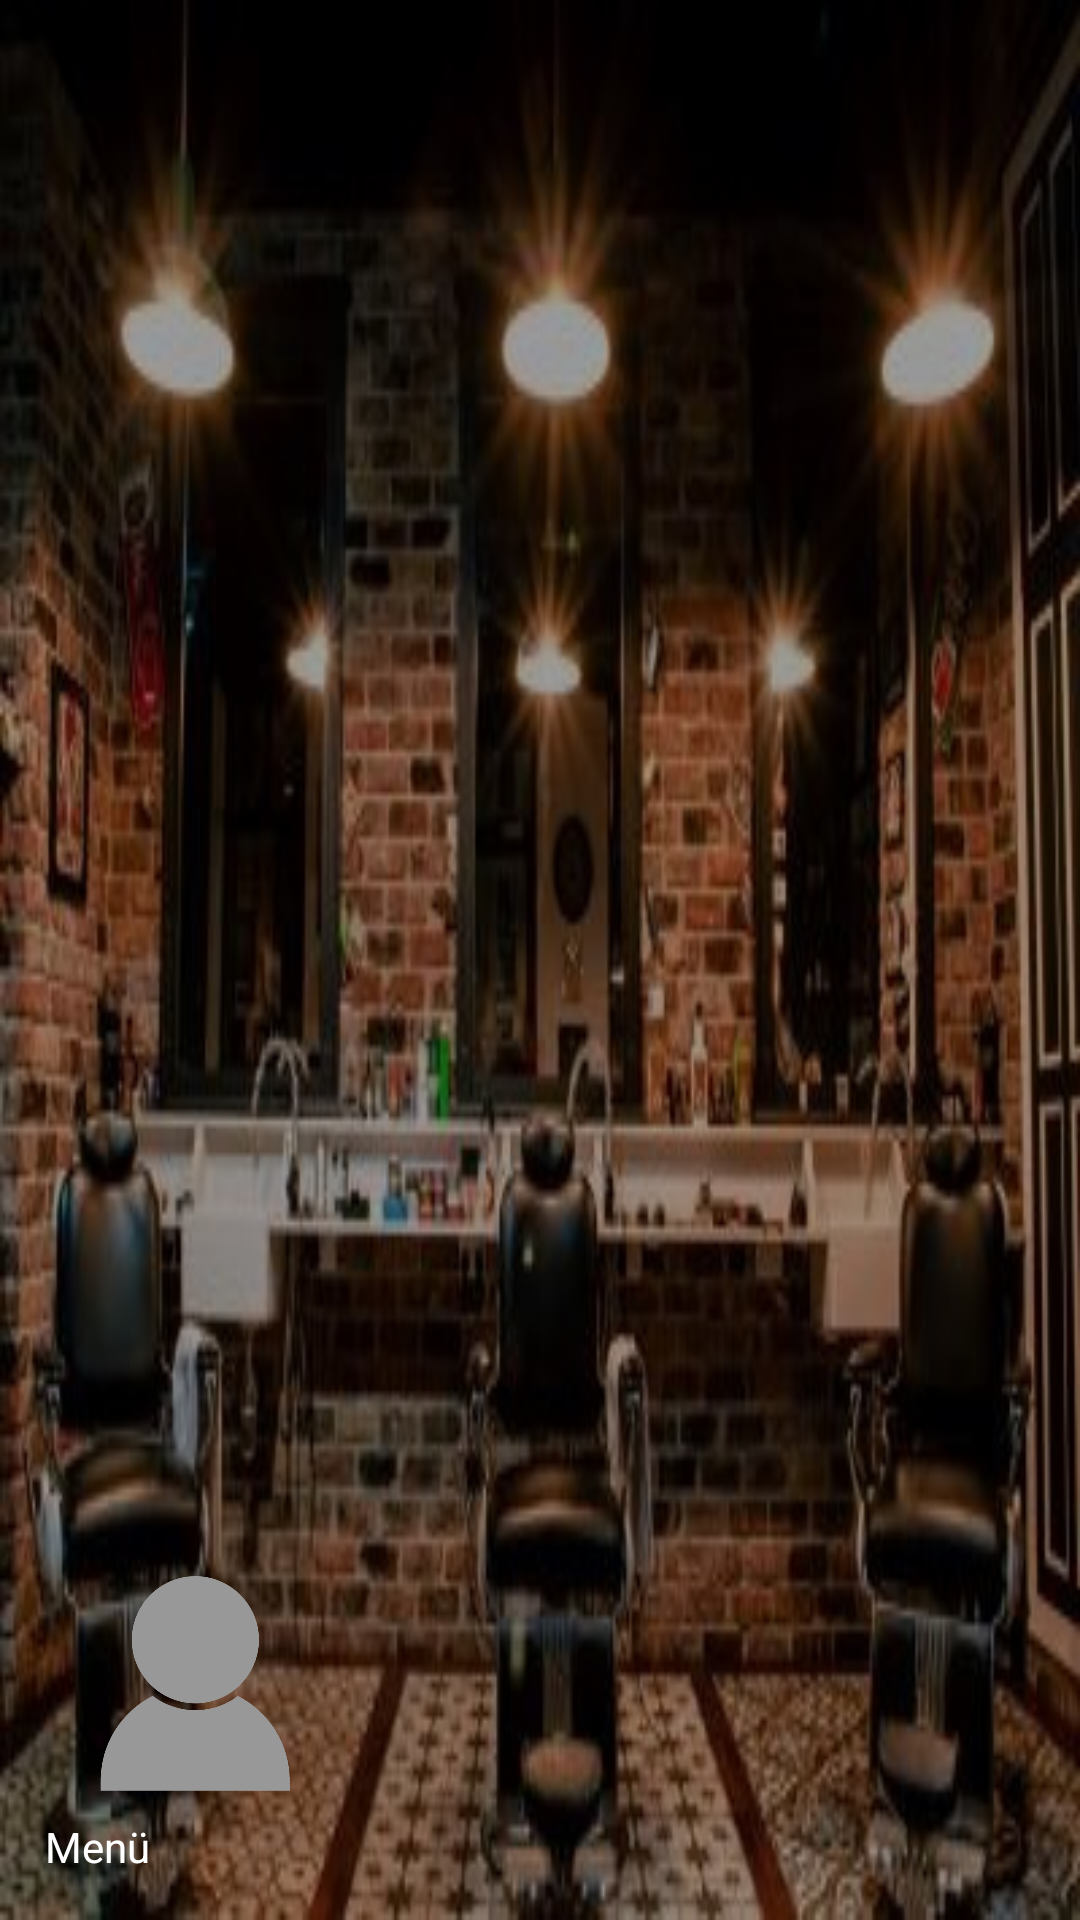

Icons on this 1080 x 1920 Android screen, each with the point to tap as (x=x, y=y):
defaultkaydol: (x=195, y=1683)
